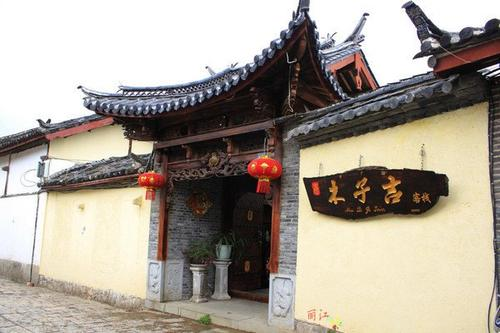chinese: (318, 176, 412, 209)
